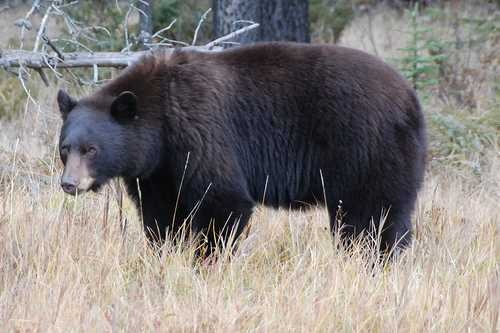bear: (35, 83, 164, 211)
